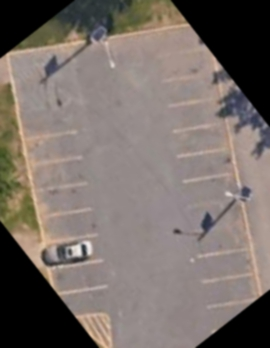parkingspot: (145, 21, 264, 340), (18, 126, 121, 321)
